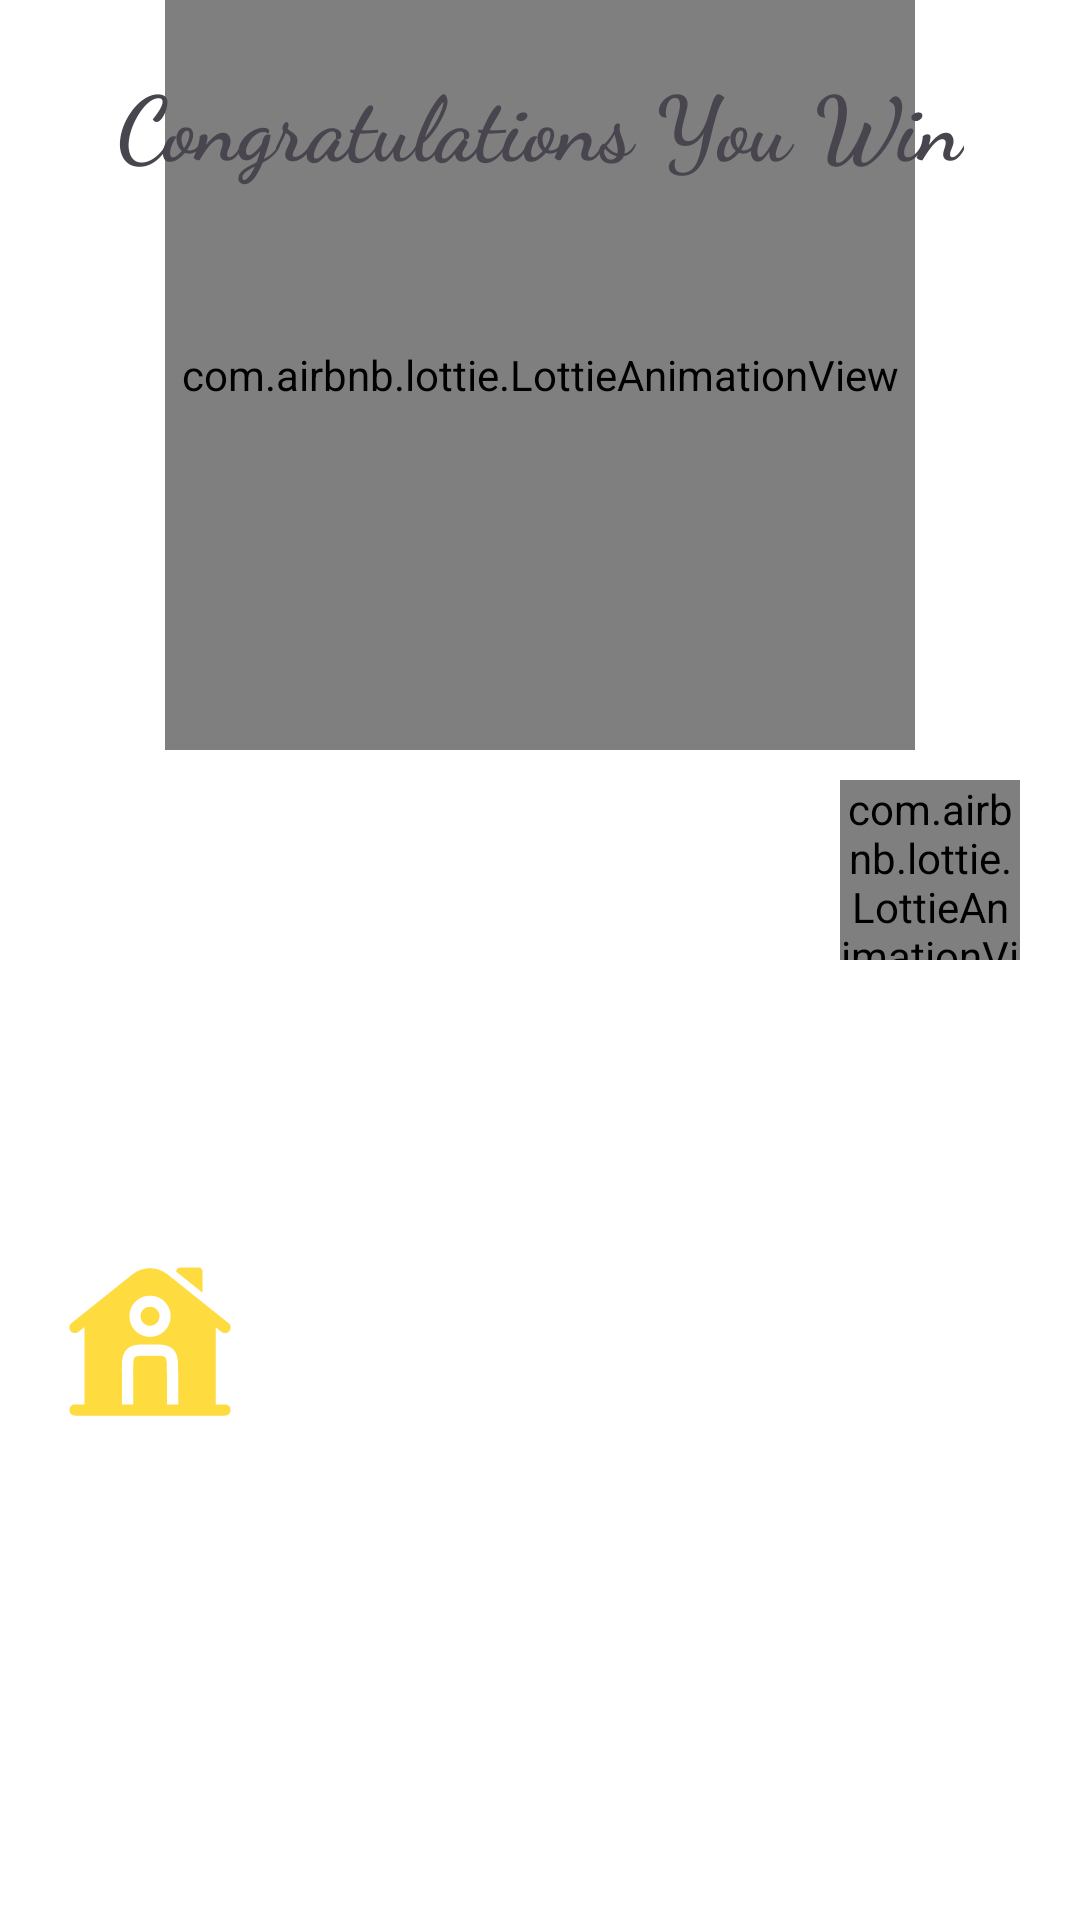

Icon click points for this 1080×1920 phone screenshot, format (x,y):
home: (150,1341)
